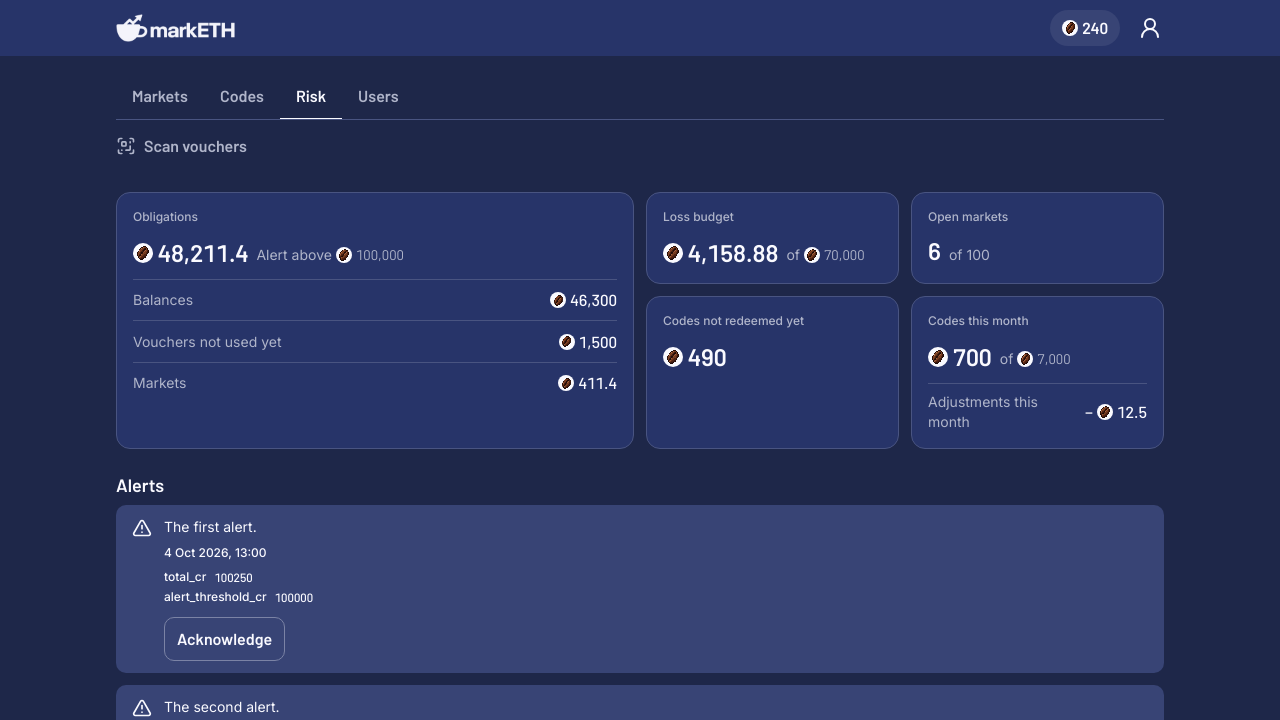
Test: alerts › Acknowledge sends the alert's id, and the alert is gone once the page was read again
Click the button "Acknowledge" at (225, 639), box [164, 617, 285, 661]
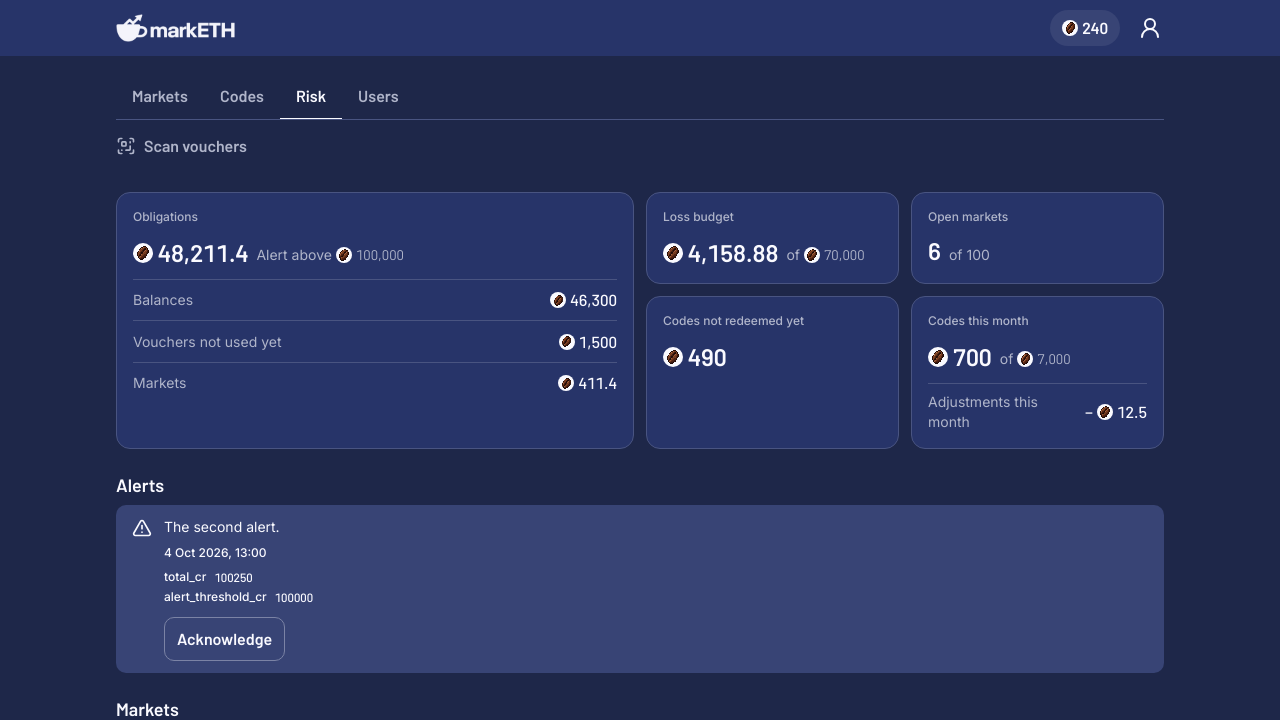
Expected: the text "The second alert." is shown, [163, 517, 280, 535]
Expected: the text "The first alert." is gone
